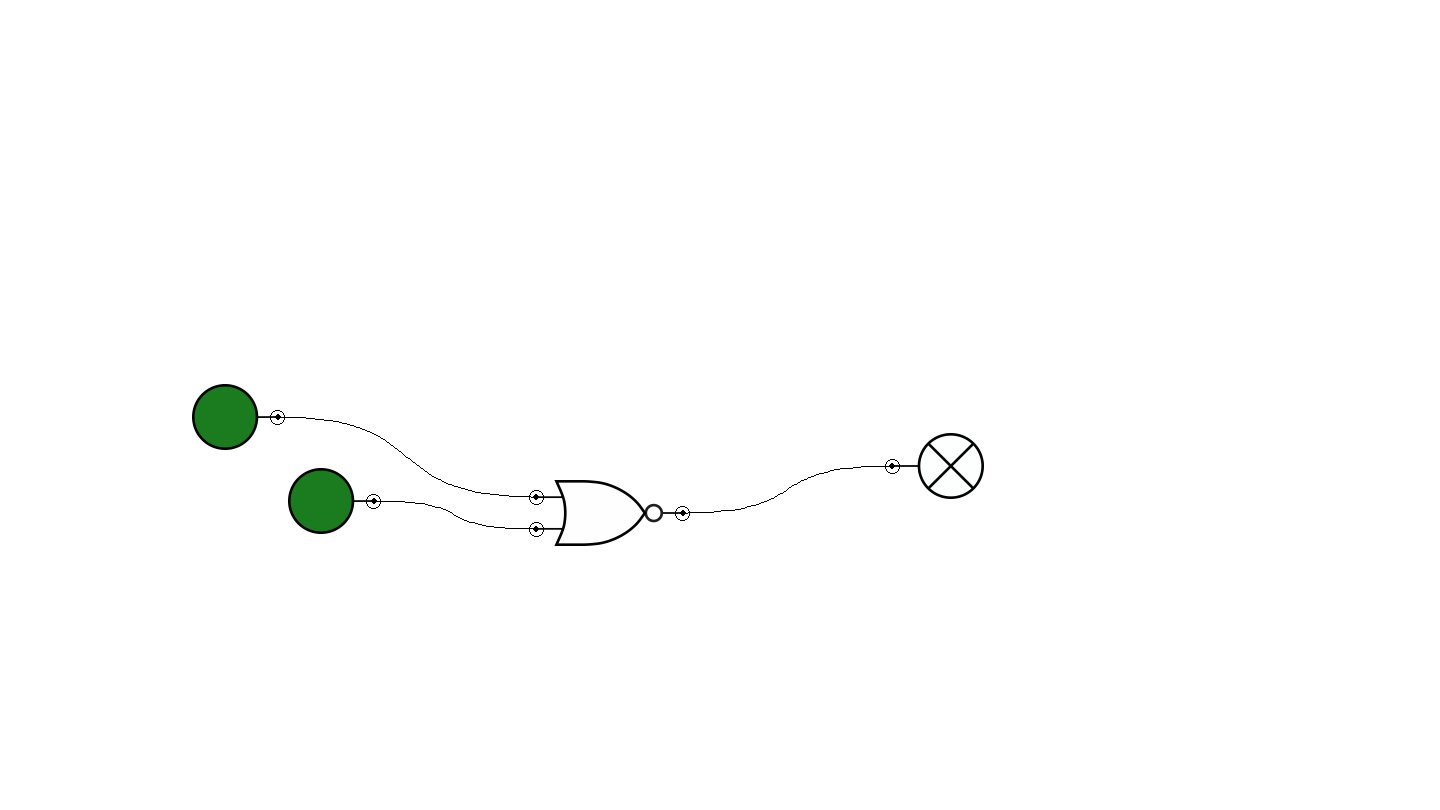bulb: (885, 433, 984, 499)
nor: (529, 480, 690, 546)
switch_True: (192, 384, 285, 450), (288, 468, 381, 534)
